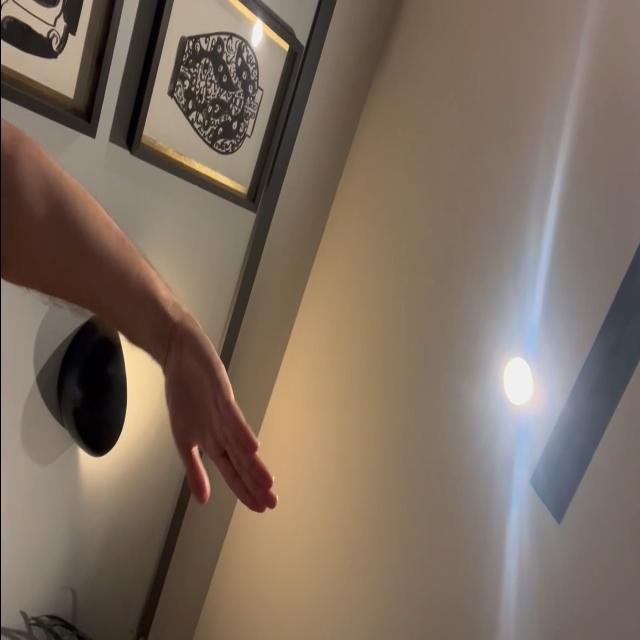Paper: (160, 316, 279, 518)
